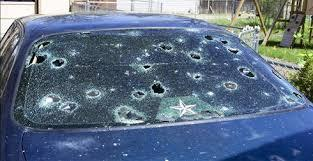Windshield: (23, 32, 306, 118)
